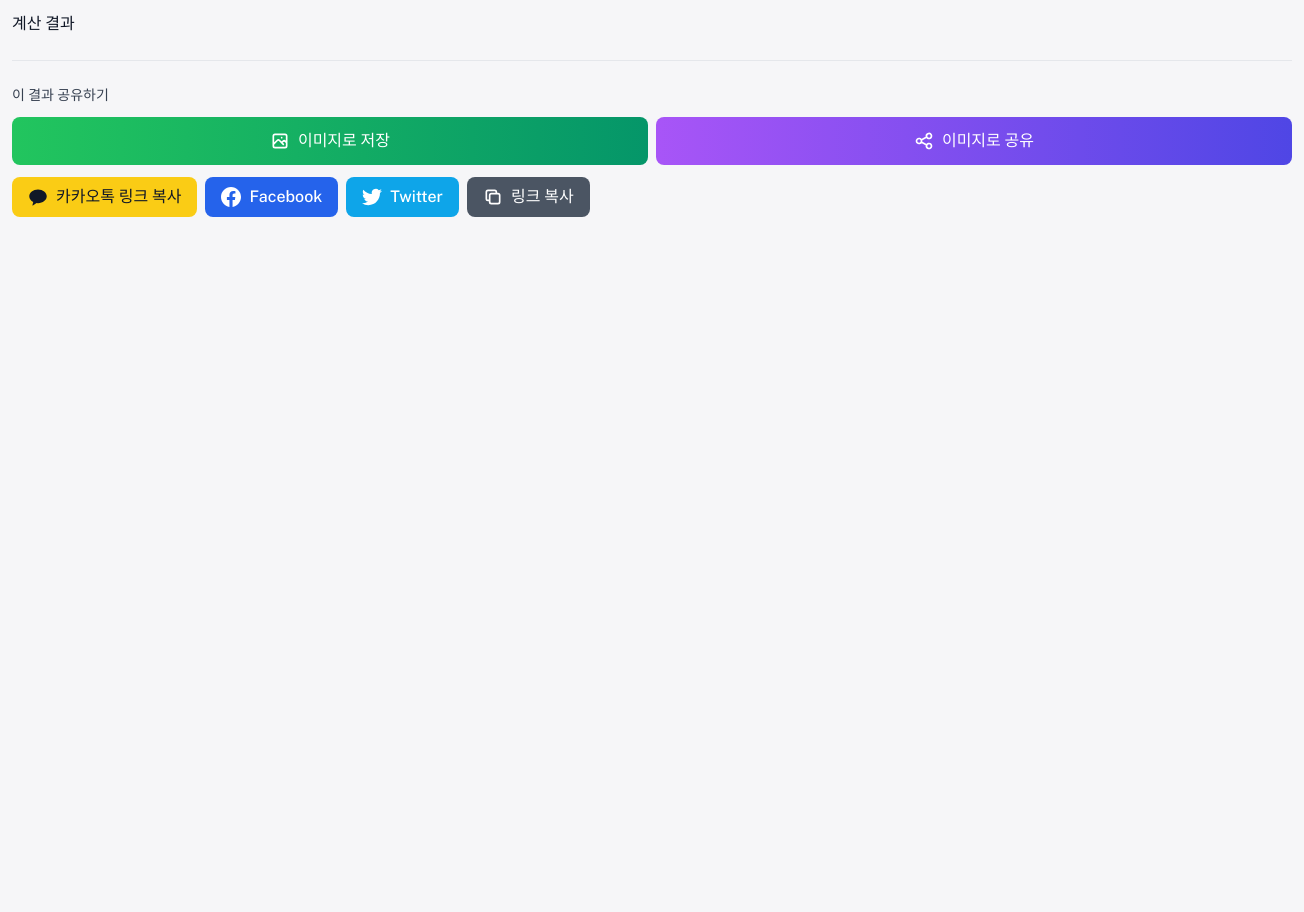
Test: native image sharing › keeps the download fallback when native sharing is unsupported
The width and height of the screenshot is (1304, 912).
Step 1. Click the button "이미지로 공유" → (974, 141), box top-left (656, 117), bottom-right (1292, 165)
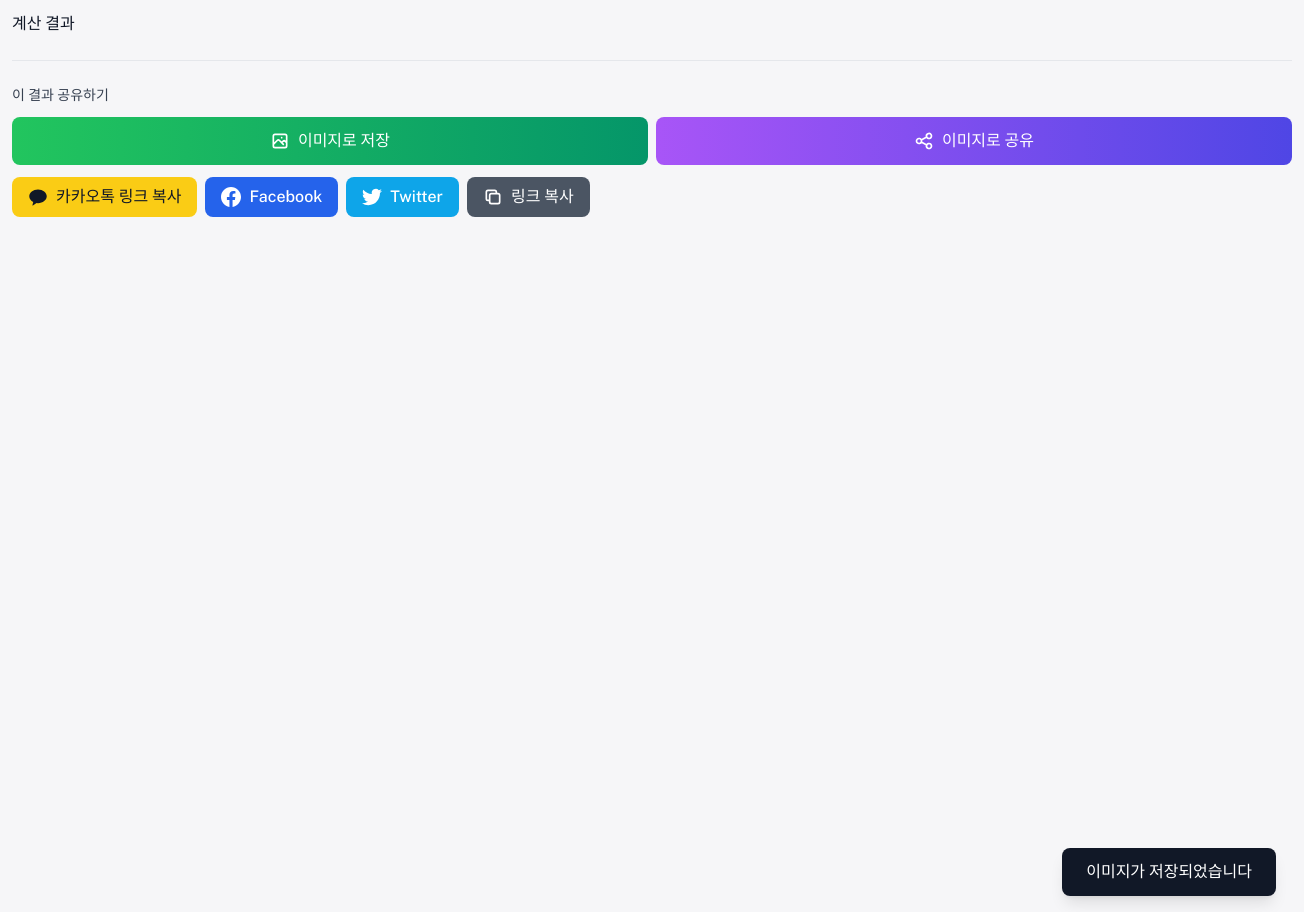
Result: the text "이미지가 저장되었습니다" is shown at top-left (1062, 848), bottom-right (1276, 896)
